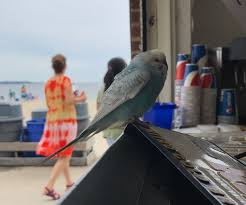budgie: (45, 48, 170, 159)
